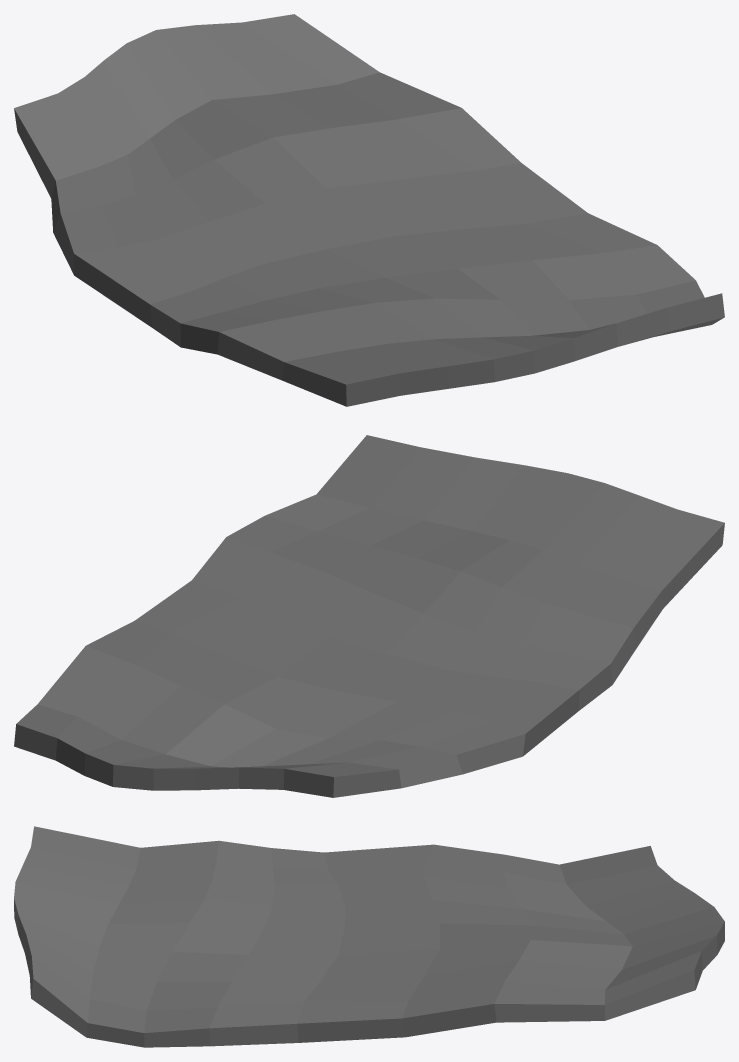
The model's file is metal_sheet_02.fbx.
The picture shows the model from 3 angles, top to bottom: view 1: azimuth 30°, elevation 25°; view 2: azimuth 150°, elevation 25°; view 3: azimuth 270°, elevation 25°; orthographic projection. The views are drawn at different scales.
Parts seen in each view (by area): view 1: metal_sheet_02; view 2: metal_sheet_02; view 3: metal_sheet_02.
Boxes of the visible parts, box(x1,y1,x2,y2) form: metal_sheet_02: box(14, 14, 724, 406); metal_sheet_02: box(14, 435, 724, 797); metal_sheet_02: box(14, 826, 724, 1047).
Size of the model in its own units: 201 by 28.08 by 333.
